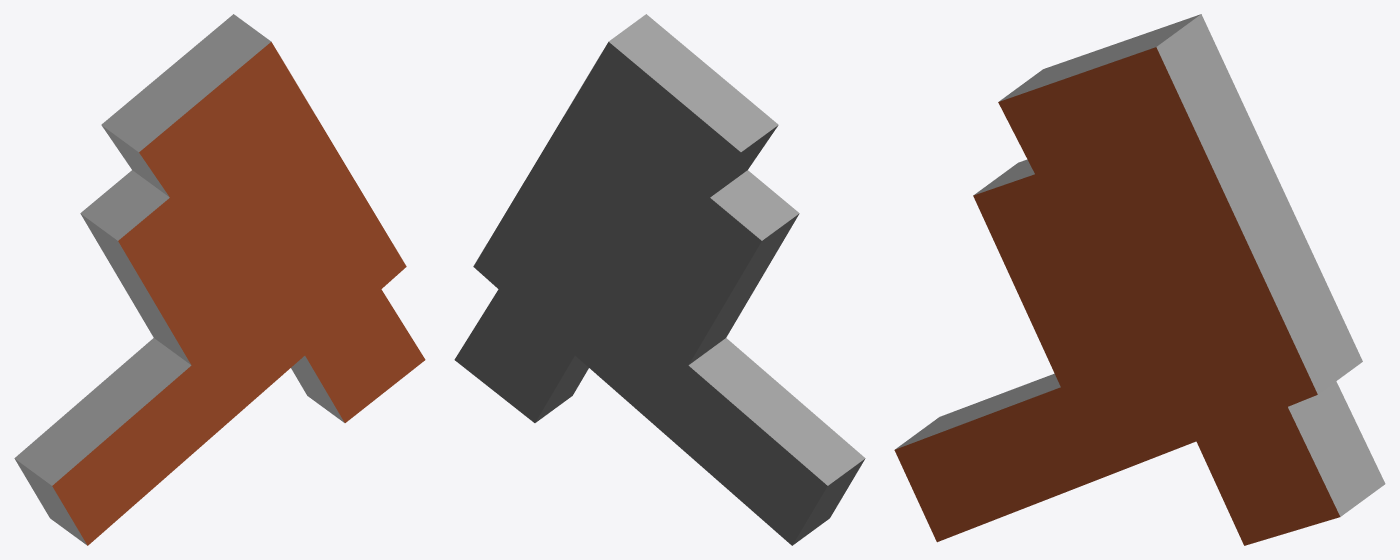
The model's file is construction_6582_assumed_A_Casa_h6m.obj.
3 renders of one model, left to right at view 1: azimuth 30°, elevation 25°; view 2: azimuth 150°, elevation 25°; view 3: azimuth 330°, elevation 25°, orthographic. The views are drawn at different scales.
Visible parts, largest first — view 1: construction_6582_assumed_A_Casa; view 2: construction_6582_assumed_A_Casa; view 3: construction_6582_assumed_A_Casa.
Boxes of the visible parts, <box> form: construction_6582_assumed_A_Casa: <box>14,14,425,545</box>; construction_6582_assumed_A_Casa: <box>454,14,865,545</box>; construction_6582_assumed_A_Casa: <box>894,14,1385,545</box>.
Size of the model in its own units: 34.24 by 40.26 by 6.
